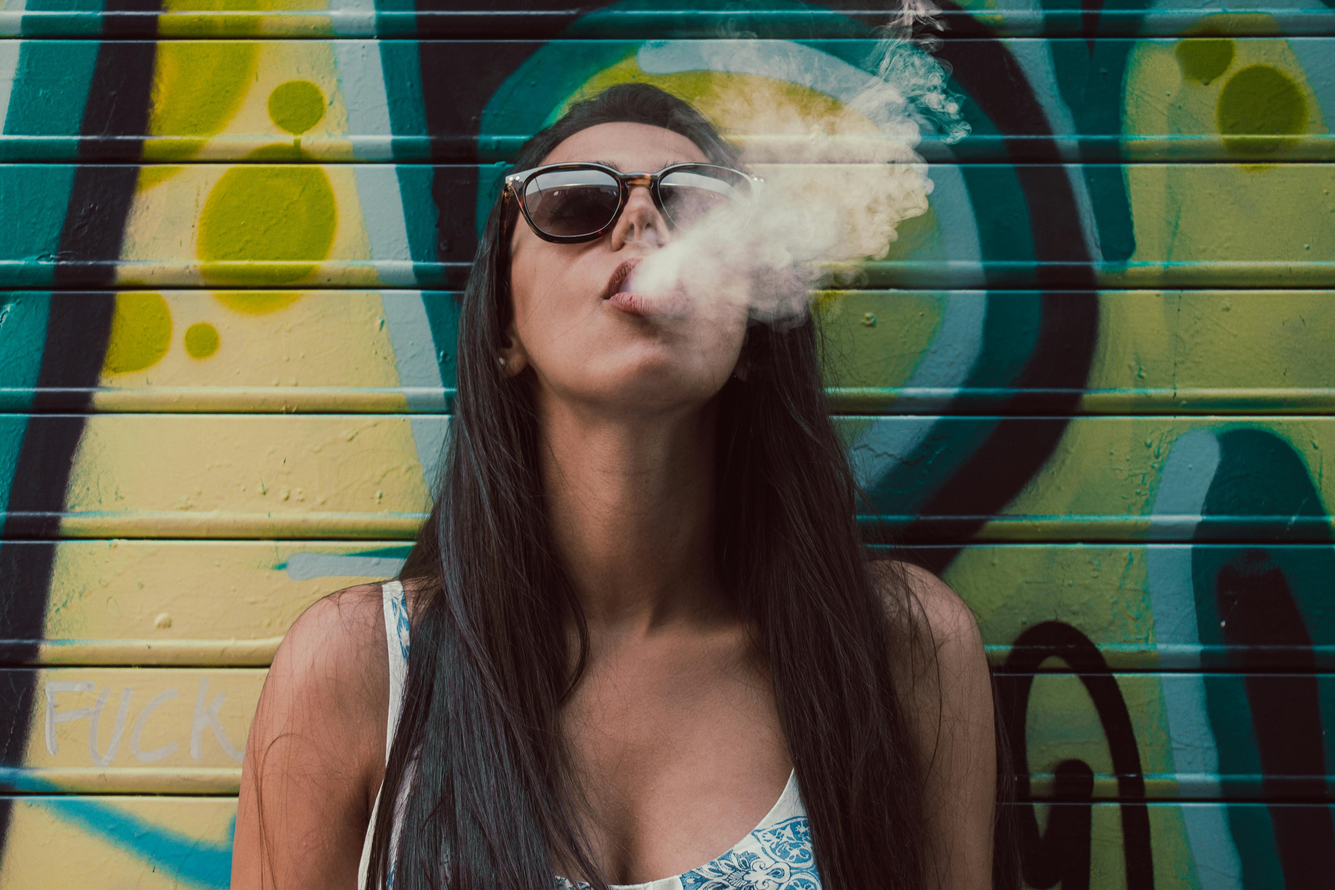smoker: (311, 0, 971, 713)
